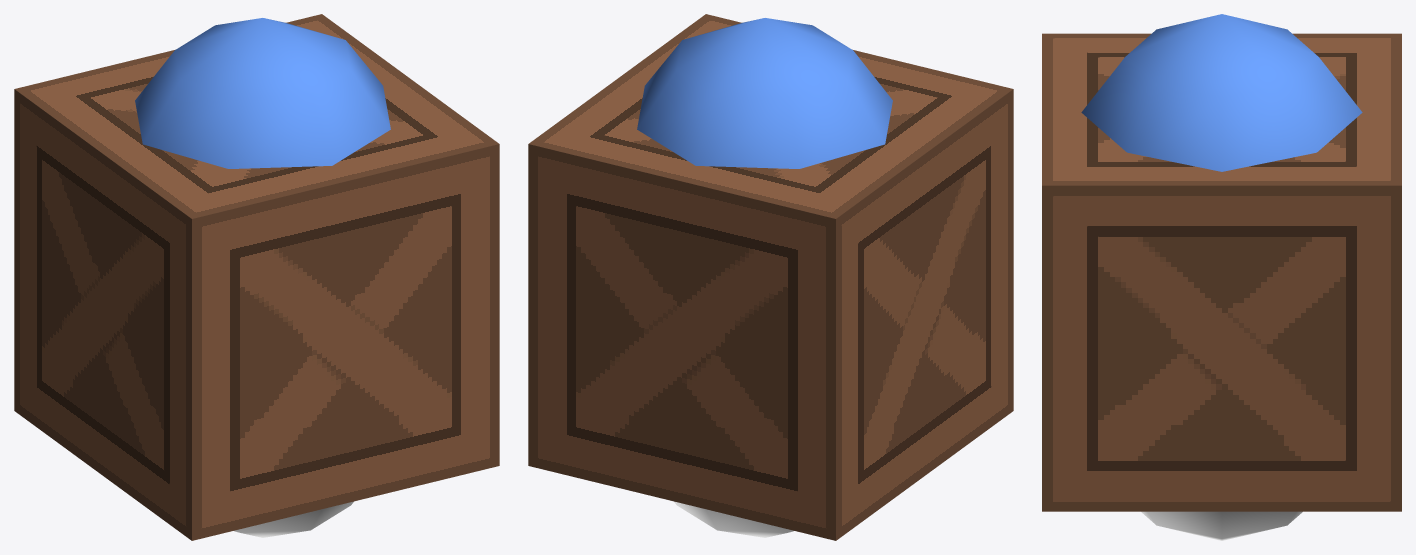
3 views of the same model, side by side, from view 1: azimuth 30°, elevation 25°; view 2: azimuth 150°, elevation 25°; view 3: azimuth 270°, elevation 25° (orthographic).
Parts seen in each view (by area): view 1: Cube, Pill; view 2: Cube, Pill; view 3: Cube, Pill.
Part boxes in pixels (bbox=[...]): Cube: bbox=[14, 14, 499, 540]; Pill: bbox=[135, 18, 390, 537]; Cube: bbox=[528, 14, 1013, 540]; Pill: bbox=[637, 18, 892, 537]; Cube: bbox=[1042, 33, 1401, 511]; Pill: bbox=[1081, 14, 1362, 540].
Bounding box in the file's own units: 375 × 606 × 375.
